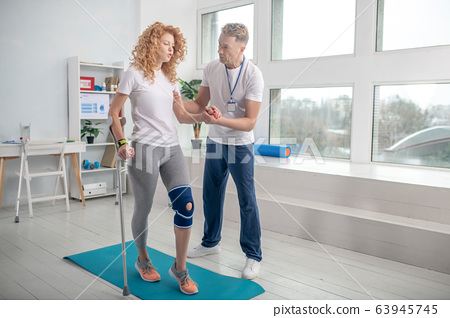crutches: (107, 21, 204, 296)
